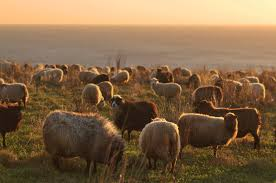sheep: (45, 109, 124, 173), (180, 110, 235, 158), (138, 120, 182, 174), (194, 99, 260, 134), (106, 92, 160, 134), (189, 84, 230, 115), (146, 77, 189, 106), (1, 106, 28, 142), (109, 64, 141, 88), (77, 80, 103, 109), (205, 71, 237, 94), (1, 78, 23, 107), (76, 64, 102, 85), (244, 82, 270, 101), (38, 66, 63, 84), (155, 66, 178, 84)
